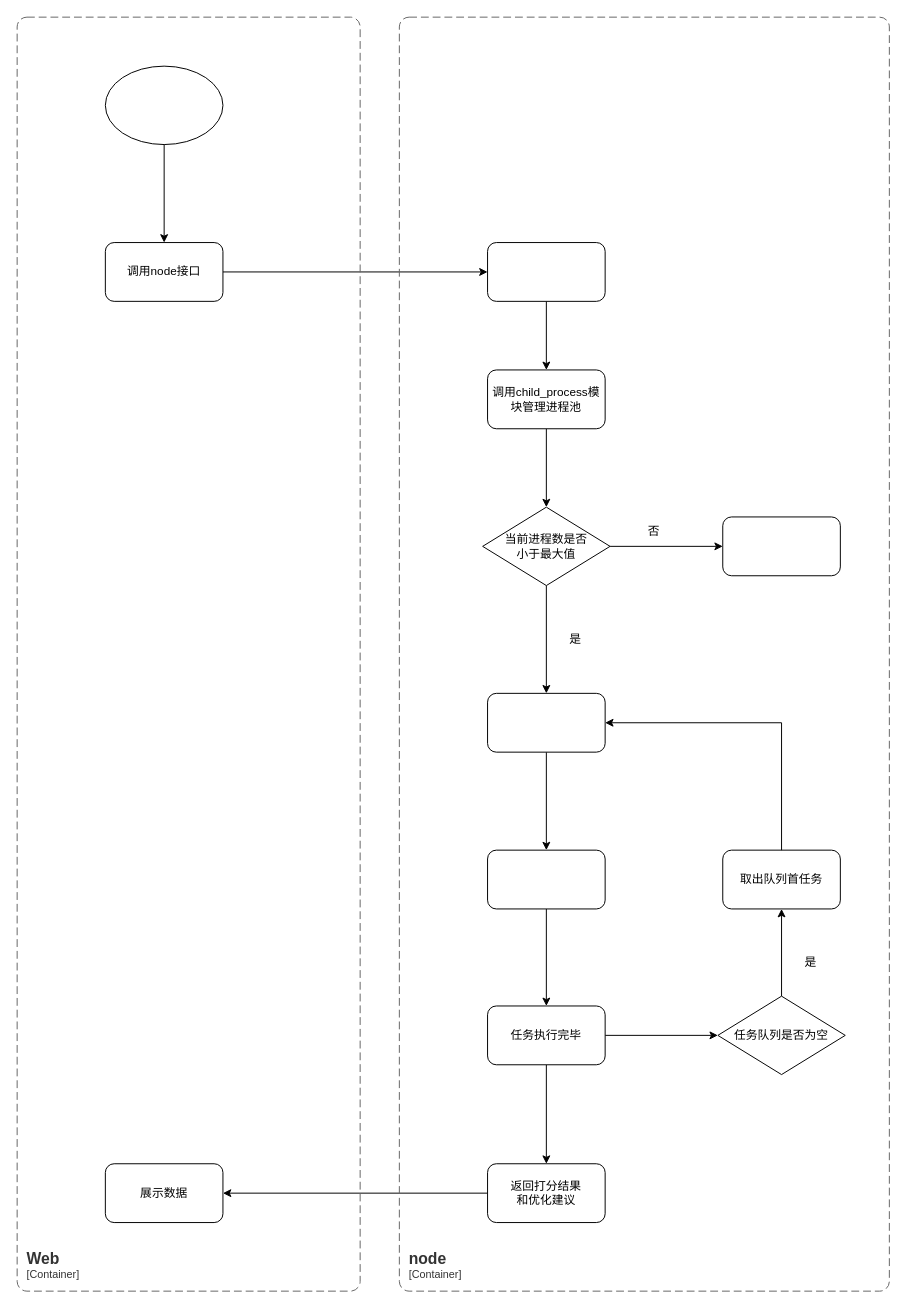
This 907x1308 diagram has some shape labels left out. The centre of each missing label's shape, as x and y in pixels:
"puppeteer启动浏览器 lighthouse基于url进行打分" belongs at (546,879).
"添加到任务队列 等待执行" belongs at (781,546).
"获取建站落地页url" belongs at (546,271).
"衍生子进程 执行任务" belongs at (546,722).
"进入boss前端运营平台，点击页面打分" belongs at (163,105).
